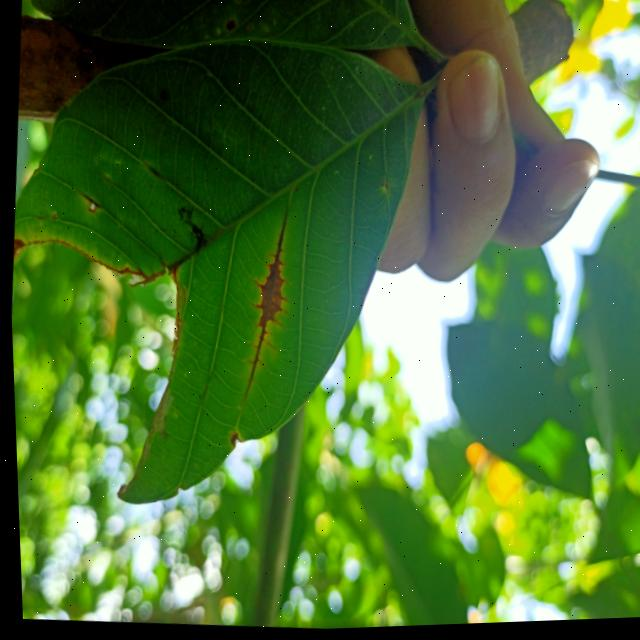Corynespora: (235, 211, 296, 401), (80, 193, 101, 213)
Leaf-Blight: (10, 235, 25, 260)
